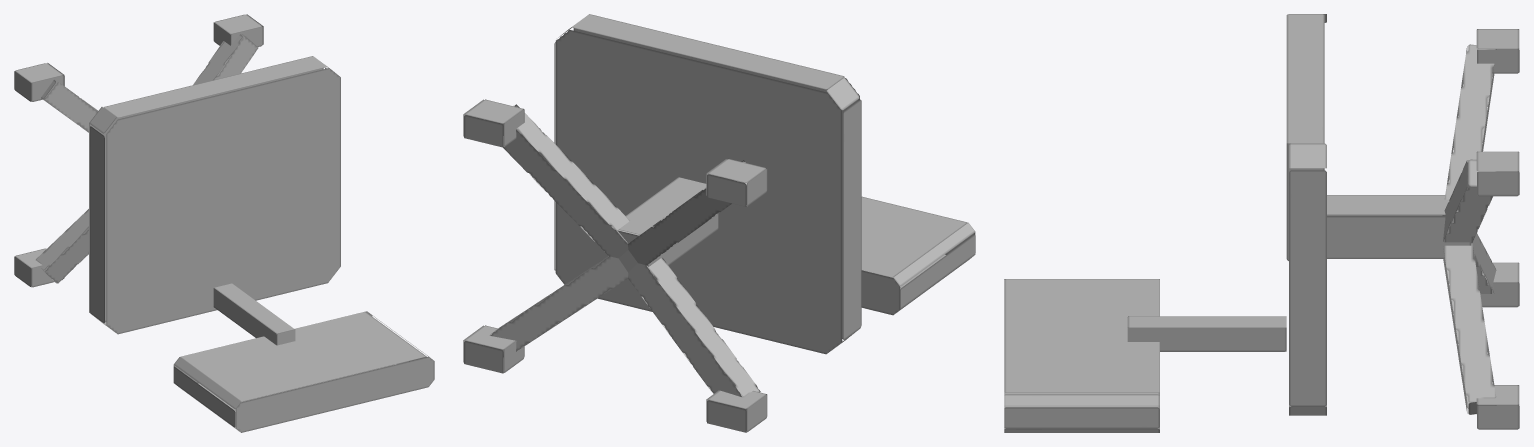
File: pz_chair_seating_indoor_01_black_office.obj
3 views of the same model, side by side, from view 1: azimuth 30°, elevation 25°; view 2: azimuth 150°, elevation 25°; view 3: azimuth 270°, elevation 25° (orthographic). The views are drawn at different scales.
Visible parts, largest first — view 1: root; view 2: root; view 3: root.
Part boxes in pixels (<box>): root: <box>14,14,434,432</box>; root: <box>463,14,975,432</box>; root: <box>1004,14,1519,432</box>.
Bounding box in the file's own units: 0.64 × 0.61 × 0.96.
Materials: 1 (1 with a texture image).
